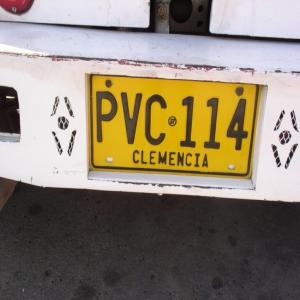Vehicle-registration-plate: (89, 75, 263, 179)
